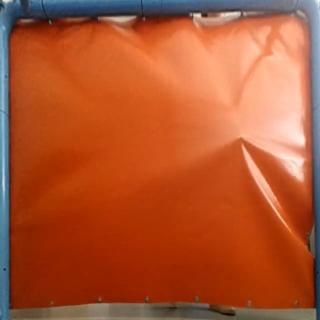Hit-hRxx: (235, 131, 248, 143)
